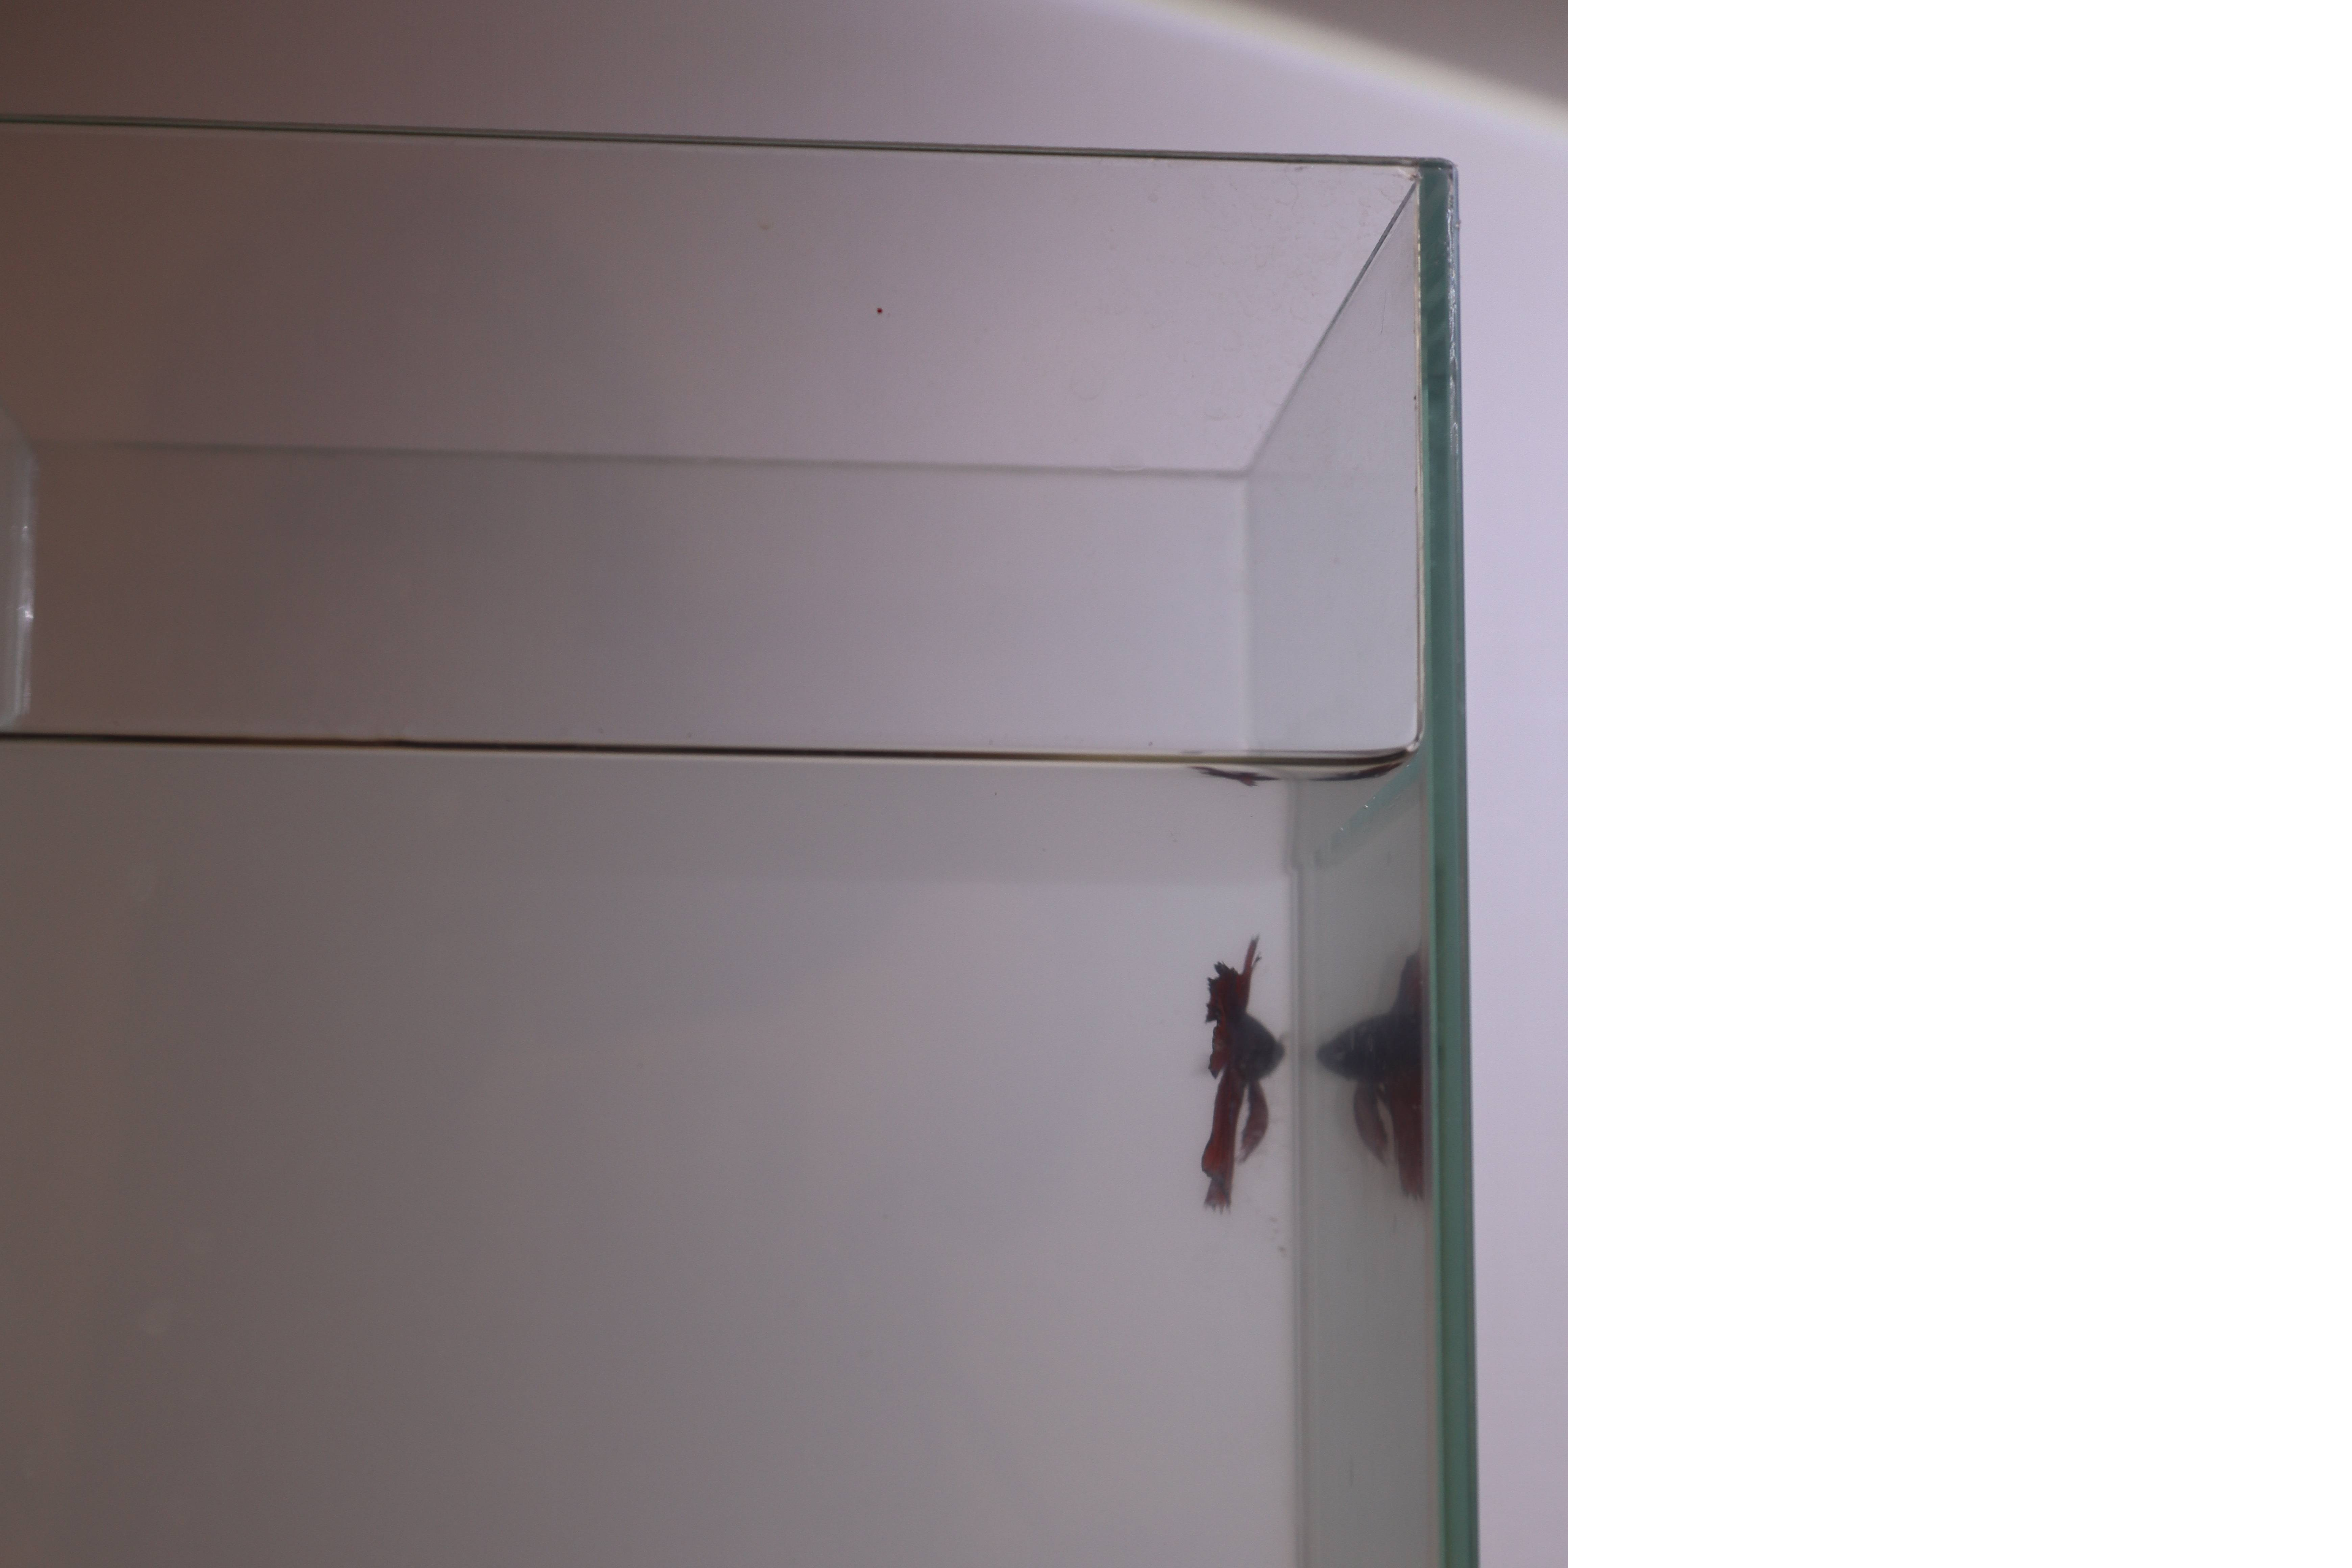fish: (1178, 950, 1302, 1214)
